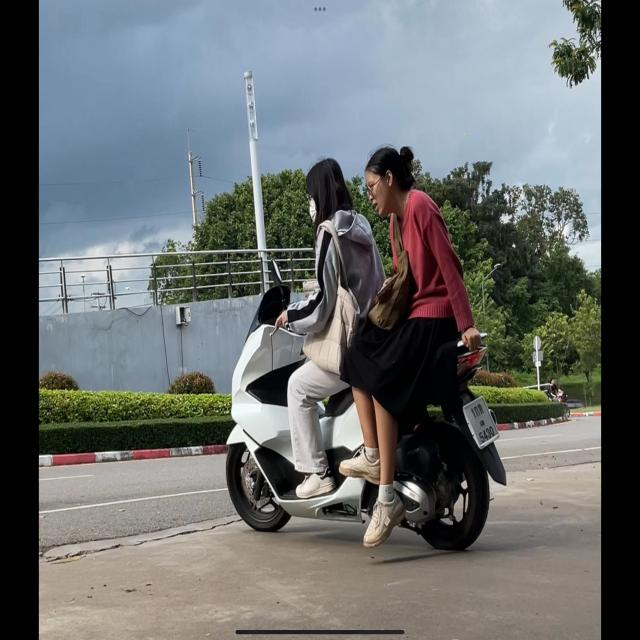seatbelt: (362, 142, 416, 218), (303, 157, 346, 227)
